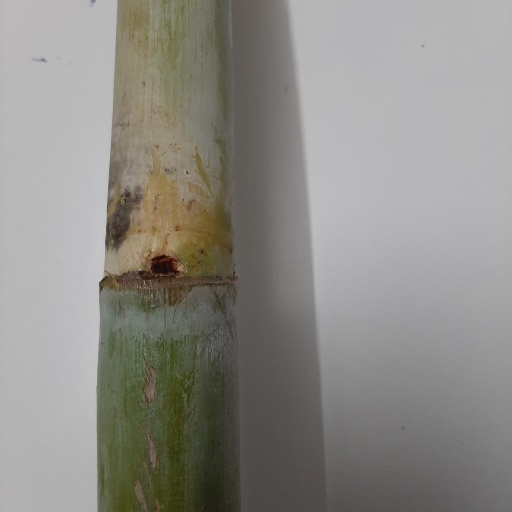Damage_Bud: (147, 254, 181, 277)
